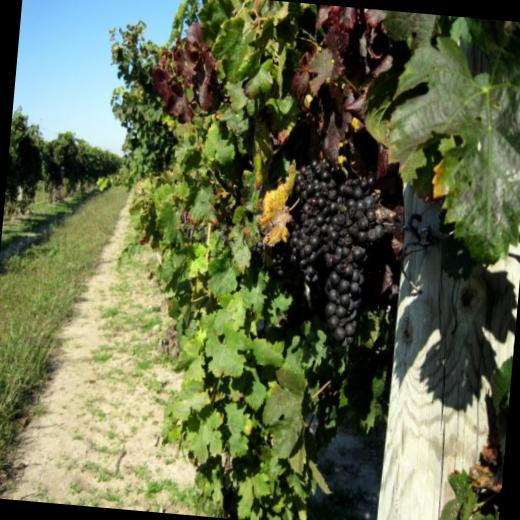Orange: (254, 152, 387, 350)
